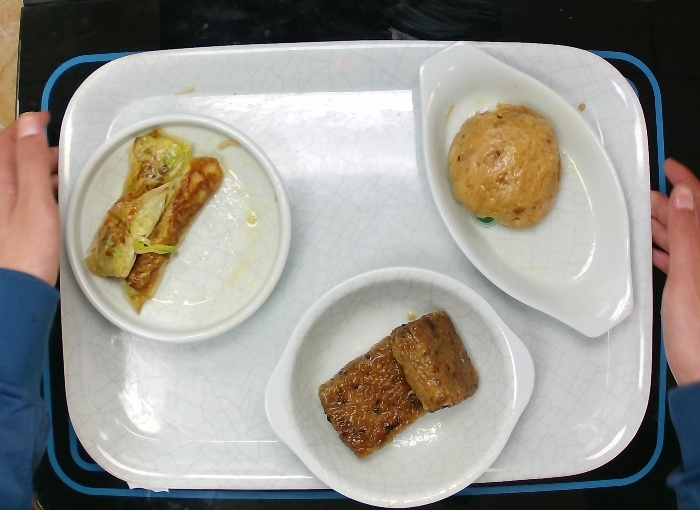JYsf-Shuang_Er_Wan: (261, 264, 535, 502)
JYsf-Xiao_Yuan_Pan: (64, 111, 296, 346)
JYsf-Yu_Pan: (410, 33, 639, 342)
